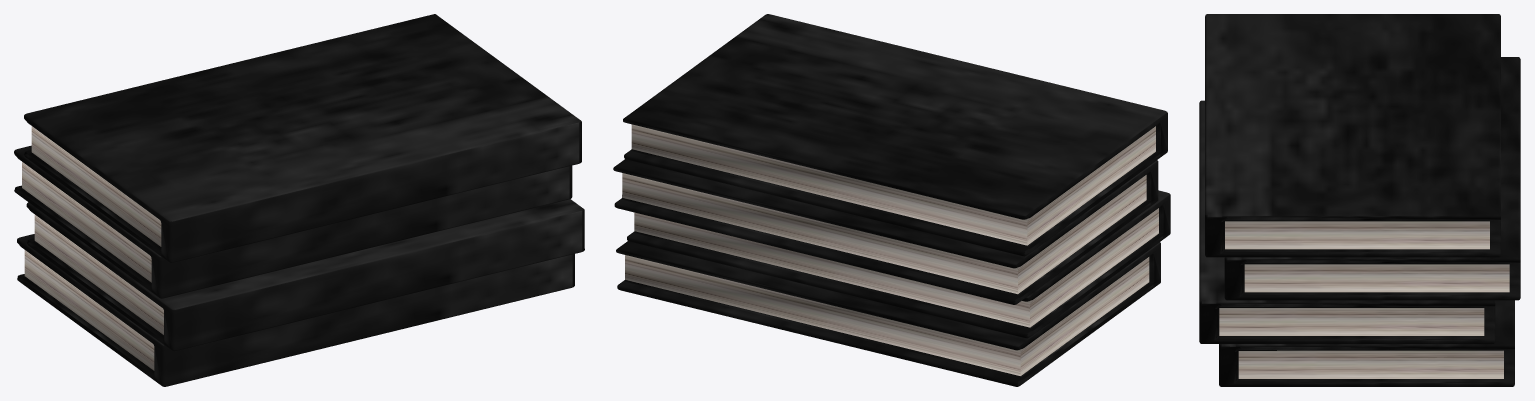
Rendered from Cuadernos.obj.
The picture shows the model from 3 angles, left to right: view 1: azimuth 30°, elevation 25°; view 2: azimuth 150°, elevation 25°; view 3: azimuth 270°, elevation 25°; orthographic projection. The views are drawn at different scales.
Visible parts, largest first — view 1: notebook:notebook1:notebook:Mesh notebook:notebook1:group notebo, notebook:notebook:Mesh notebook:group, notebook:group1 notebook:notebook1:Mesh, notebook:Mesh; view 2: notebook:notebook1:notebook:Mesh notebook:notebook1:group notebo, notebook:group1 notebook:notebook1:Mesh, notebook:Mesh, notebook:notebook:Mesh notebook:group; view 3: notebook:notebook1:notebook:Mesh notebook:notebook1:group notebo, notebook:group1 notebook:notebook1:Mesh, notebook:notebook:Mesh notebook:group, notebook:Mesh.
Boxes of the visible parts, x1,y1,x2,y2 form: notebook:notebook1:notebook:Mesh notebook:notebook1:group notebo: [24, 14, 581, 262]; notebook:notebook:Mesh notebook:group: [26, 199, 584, 351]; notebook:group1 notebook:notebook1:Mesh: [14, 145, 572, 298]; notebook:Mesh: [17, 234, 574, 386]; notebook:notebook1:notebook:Mesh notebook:notebook1:group notebo: [623, 14, 1167, 256]; notebook:group1 notebook:notebook1:Mesh: [613, 159, 1158, 304]; notebook:Mesh: [616, 241, 1160, 386]; notebook:notebook:Mesh notebook:group: [627, 190, 1170, 338]; notebook:notebook1:notebook:Mesh notebook:notebook1:group notebo: [1205, 14, 1500, 257]; notebook:group1 notebook:notebook1:Mesh: [1224, 57, 1520, 300]; notebook:notebook:Mesh notebook:group: [1199, 100, 1495, 343]; notebook:Mesh: [1219, 300, 1514, 386].
Bounding box in the file's own units: 4.03 × 1.59 × 2.69.
4 materials, 4 textured.
